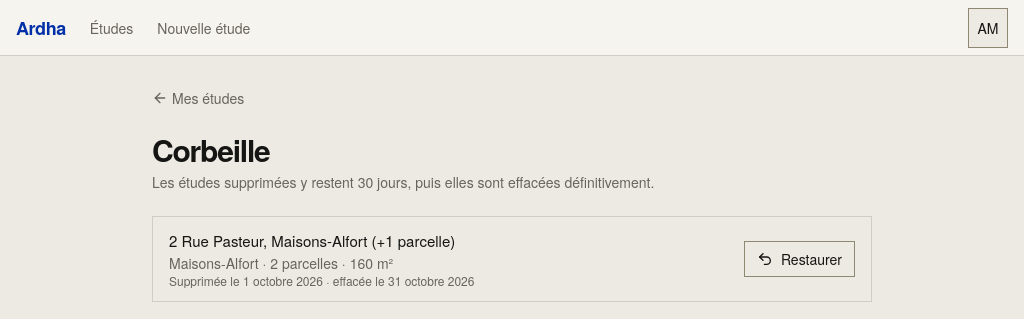
it: corbeille › études supprimées, dates, Restaurer ; vide ; erreur
The image size is (1024, 319).
Check: the list item shows "Supprimée le 1 octobre 2026 · effacée le 31 octobre 2026", box [153, 217, 871, 301]
Check: the list item shows "Maisons-Alfort · 2 parcelles · 160 m²", box [169, 253, 393, 273]
Click the button "Restaurer" at (799, 259), box [744, 241, 855, 277]
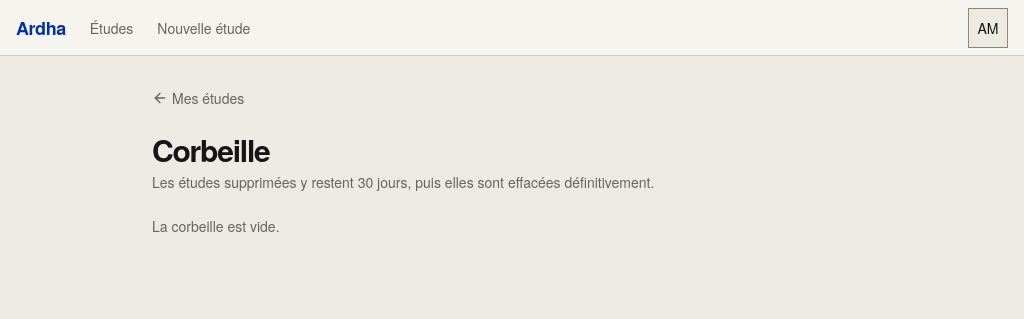
Check: the text "La corbeille est vide." is shown, box [152, 216, 280, 236]
